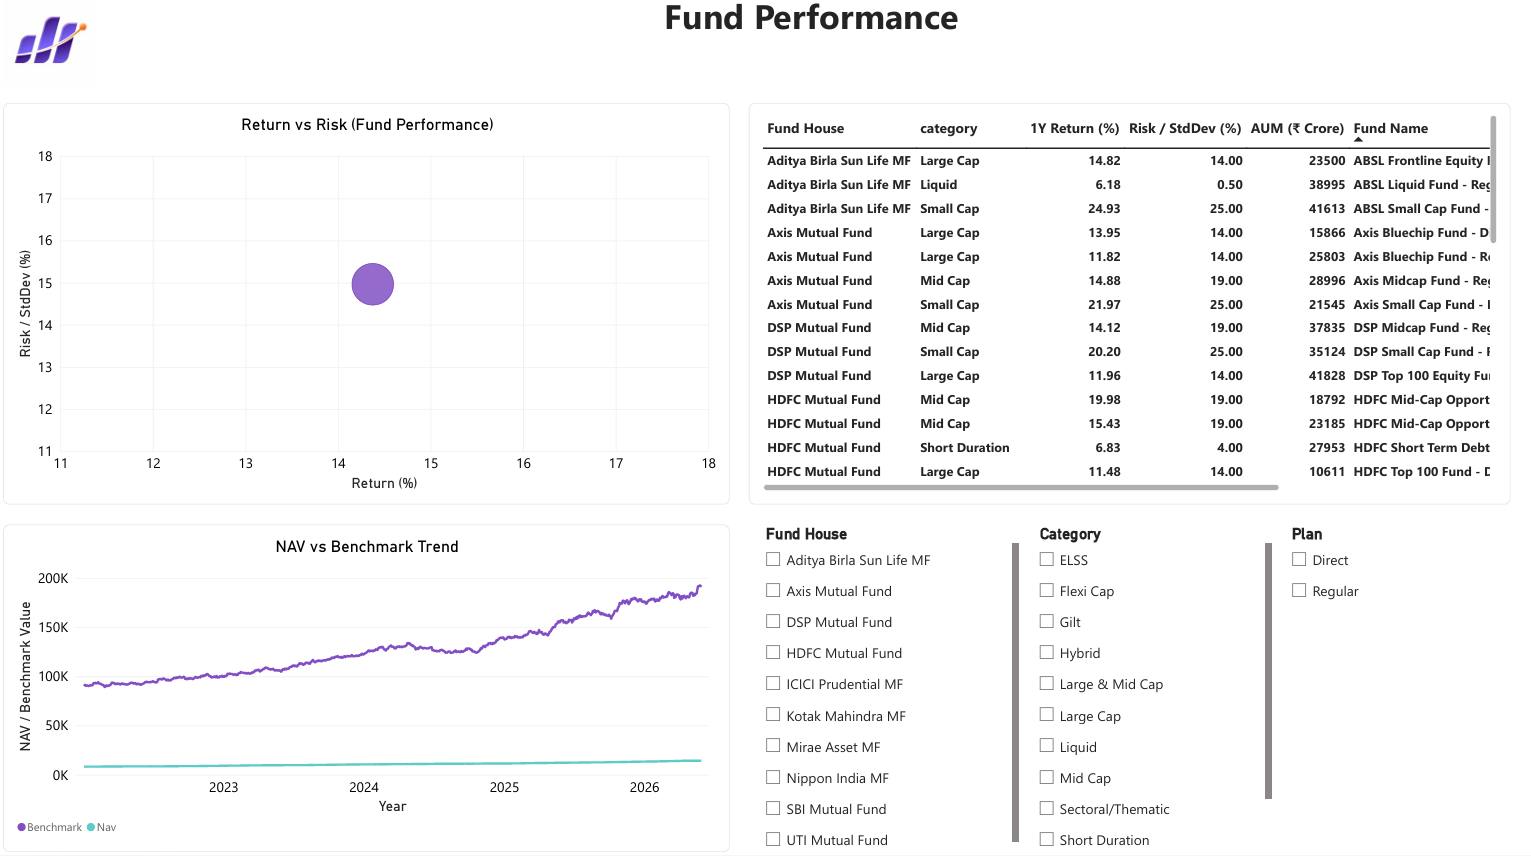

Layout of this report page (visuals, bound fields, positions):
{"tool":"powerbi","page":{"name":"Fund Performance","canvas":[1920,1080],"ordinal":1},"visuals":[{"type":"scatterChart","title":"Return vs Risk (Fund Performance)","fields":{"Size":["Sum(clean_performance.aum_crore)"],"X":["Avg(clean_performance.return_1yr_pct)"],"Y":["Avg(clean_performance.std_dev_ann_pct)"]},"box":[10.1,139.2,911.8,504.3],"z":0},{"type":"tableEx","fields":{"Values":["clean_performance.fund_house","clean_performance.category","Sum(clean_performance.return_1yr_pct)","Sum(clean_performance.std_dev_ann_pct)","Sum(clean_performance.aum_crore)","clean_performance.scheme_name","Sum(clean_performance.sharpe_ratio)"]},"box":[946.1,139.2,956.2,504.3],"z":1000},{"type":"lineChart","title":"NAV vs Benchmark Trend","fields":{"Category":["DateTable.Date.Variation.Date Hierarchy.Year","DateTable.Date.Variation.Date Hierarchy.Quarter","DateTable.Date.Variation.Date Hierarchy.Month","DateTable.Date.Variation.Date Hierarchy.Day"],"Y":["Sum(clean_benchmark.close_value)","Sum(clean_nav.nav)"]},"box":[10.1,667.7,911.8,411.5],"z":2000},{"type":"slicer","fields":{"Values":["clean_fund_master.fund_house"]},"box":[960.2,667.7,324.8,411.5],"z":3000},{"type":"slicer","fields":{"Values":["clean_category.category"]},"box":[1303.1,667.7,298.6,411.5],"z":4000},{"type":"slicer","fields":{"Values":["clean_fund_master.plan"]},"box":[1619.8,667.7,282.4,411.5],"z":5000},{"type":"image","box":[10.1,0,119,121],"z":6000},{"type":"textbox","box":[129.1,0,1791.3,121],"z":7000}]}

Visuals, with their boxes in screenshot pixels (x1, y1, x2, y2), scaled from the page's 1920x1080 canvas onto the 1531x856 screenshot:
"Return vs Risk (Fund Performance)" scatterChart: Rect(8, 110, 735, 510)
tableEx - clean_performance.fund_house x clean_performance.category: Rect(754, 110, 1517, 510)
"NAV vs Benchmark Trend" lineChart: Rect(8, 529, 735, 855)
slicer - clean_fund_master.fund_house: Rect(766, 529, 1025, 855)
slicer - clean_category.category: Rect(1039, 529, 1277, 855)
slicer - clean_fund_master.plan: Rect(1292, 529, 1517, 855)
image: Rect(8, 0, 103, 96)
textbox: Rect(103, 0, 1530, 96)
